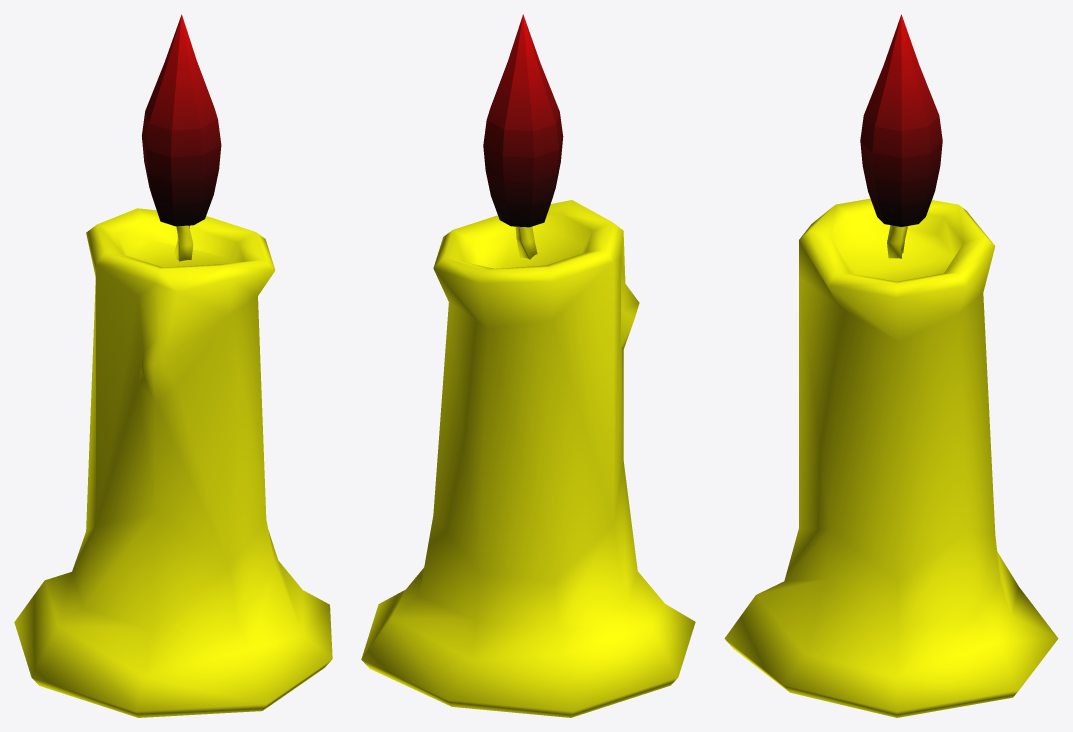
File: Candle_A.fbx
The picture shows the model from 3 angles, left to right: view 1: azimuth 30°, elevation 25°; view 2: azimuth 150°, elevation 25°; view 3: azimuth 270°, elevation 25°; orthographic projection.
Parts seen in each view (by area): view 1: U_Candle_A, Fire; view 2: U_Candle_A, Fire; view 3: U_Candle_A, Fire.
Part boxes in pixels (x1,y1,x2,y2): U_Candle_A: (14,208,332,717); Fire: (142,14,221,226); U_Candle_A: (361,200,695,717); Fire: (483,14,563,227); U_Candle_A: (724,198,1058,717); Fire: (860,14,942,226).
Size of the model in its own units: 32.16 by 65.38 by 31.12.
